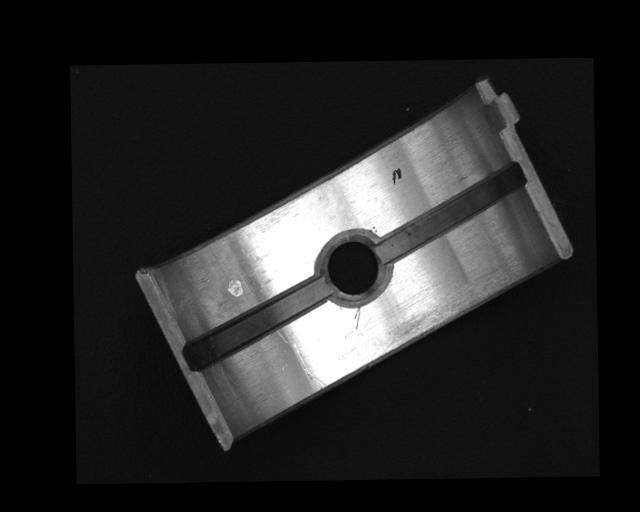blot: (390, 166, 402, 185)
bruise: (226, 278, 242, 298)
gap: (375, 165, 527, 261), (183, 280, 328, 367)
hole: (317, 230, 393, 302)
nick: (292, 340, 327, 391), (353, 305, 361, 330)
scratch: (389, 275, 525, 349)
